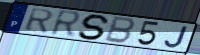5: (137, 21, 161, 47)
B: (103, 15, 138, 45)
J: (163, 25, 190, 49)
R: (49, 9, 84, 39), (23, 8, 56, 34)
S: (77, 14, 112, 41)
